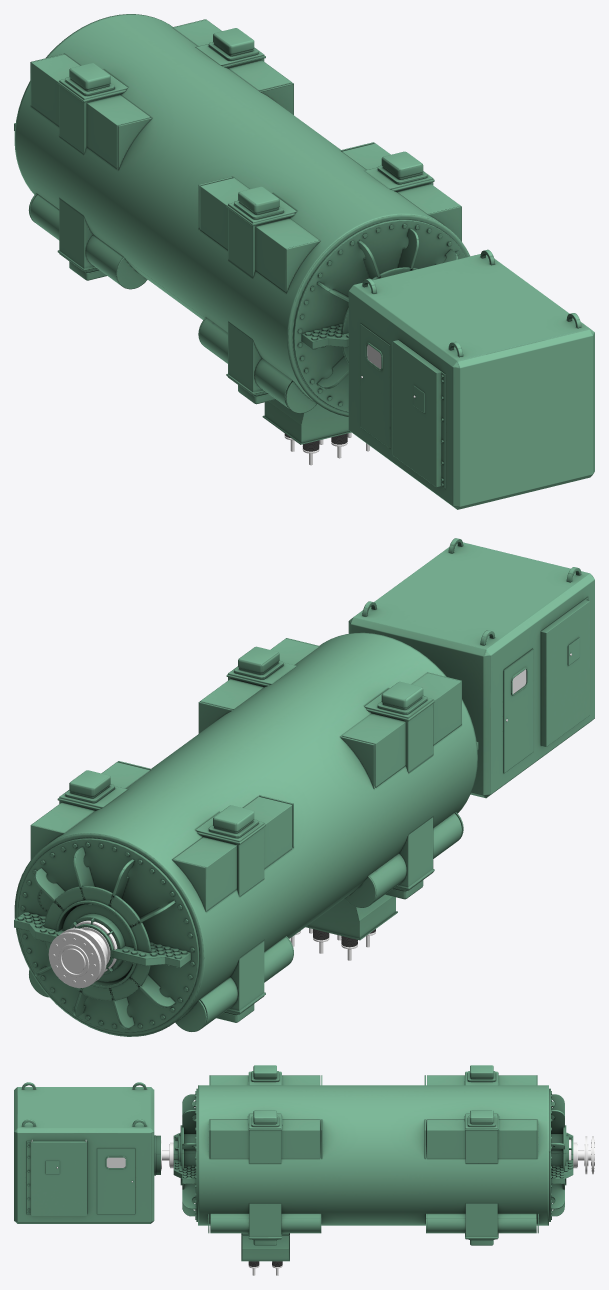
Rendered from Generator.glb.
The picture shows the model from 3 angles, top to bottom: view 1: azimuth 30°, elevation 25°; view 2: azimuth 150°, elevation 25°; view 3: azimuth 270°, elevation 25°; orthographic projection. The views are drawn at different scales.
Parts seen in each view (by area): view 1: Cylinder.018; view 2: Cylinder.018; view 3: Cylinder.018.
Boxes of the visible parts, x1,y1,x2,y2 form: Cylinder.018: [14, 14, 594, 509]; Cylinder.018: [14, 538, 594, 1036]; Cylinder.018: [14, 1065, 594, 1275].
Bounding box in the file's own units: 2 × 2.75 × 8.27.
Materials: 4 (1 with a texture image).
